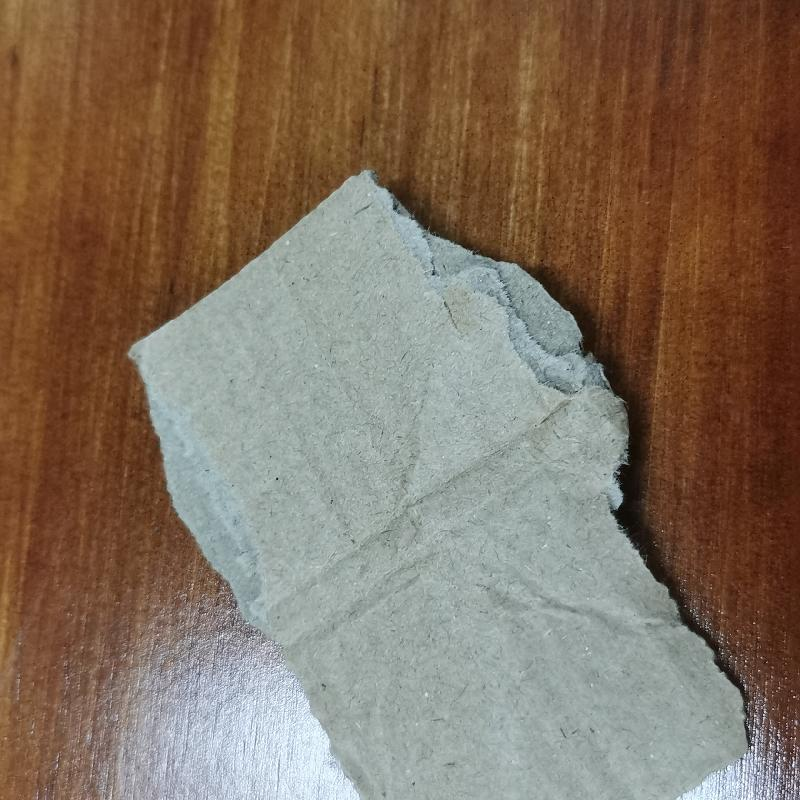boxes: (119, 167, 800, 800)
